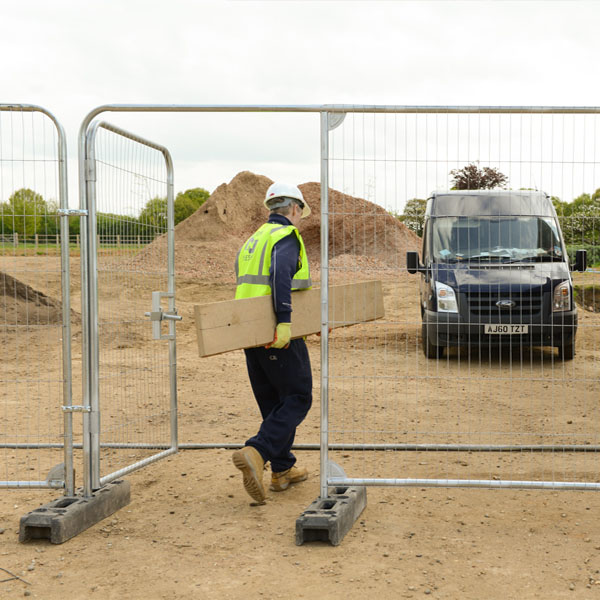epi: (225, 180, 317, 499)
